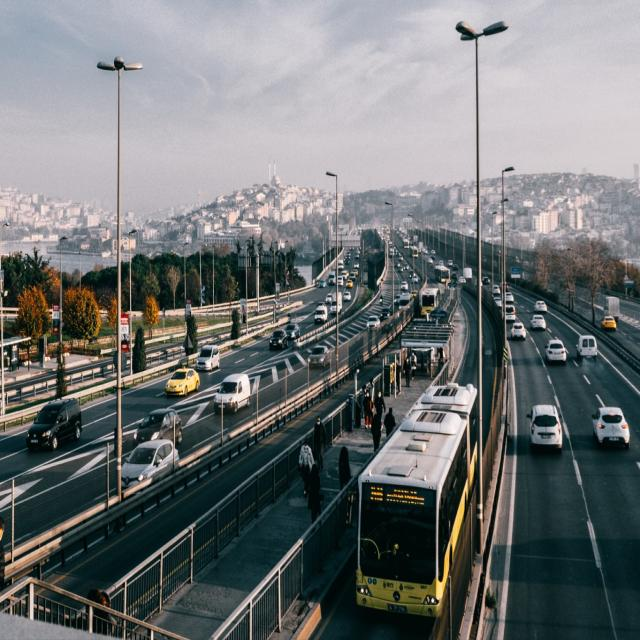bus: (358, 383, 478, 620), (420, 288, 439, 315), (434, 265, 450, 284), (410, 245, 418, 258), (403, 239, 409, 249)
car: (122, 440, 180, 490), (27, 398, 82, 450), (132, 408, 182, 444), (592, 406, 631, 448), (526, 404, 563, 448), (214, 373, 250, 412), (165, 368, 200, 396), (196, 345, 220, 370), (576, 335, 597, 361), (544, 339, 566, 362), (308, 346, 331, 367), (270, 330, 288, 349), (510, 322, 526, 340), (530, 314, 546, 330), (314, 306, 328, 324), (600, 316, 616, 331), (502, 305, 516, 321), (284, 324, 300, 338), (399, 294, 411, 312), (366, 316, 380, 331), (533, 300, 547, 312), (381, 307, 392, 319), (503, 292, 514, 303), (328, 272, 336, 286), (493, 297, 502, 308), (492, 285, 500, 295), (343, 292, 351, 301), (394, 294, 401, 304), (326, 293, 332, 304), (400, 282, 408, 290), (346, 280, 353, 288), (319, 280, 326, 288), (338, 259, 343, 270), (341, 271, 347, 280), (338, 276, 343, 286), (350, 272, 355, 280)
truck: (603, 296, 619, 321), (331, 292, 342, 314)
